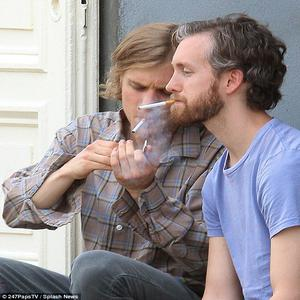cigarette: (139, 96, 176, 112), (130, 117, 148, 135)
